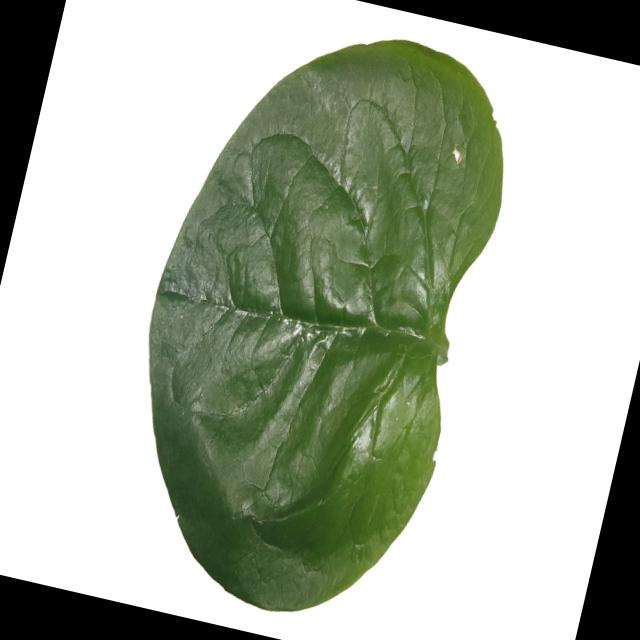Medicinal-Basale: (91, 0, 534, 640)
